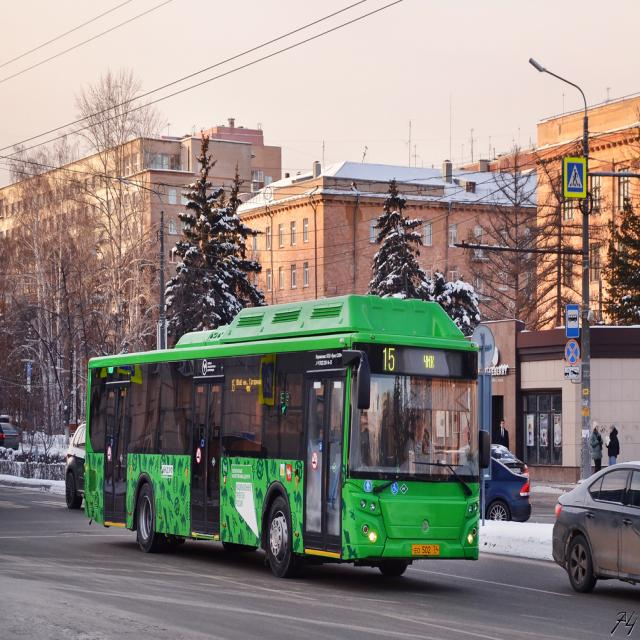number-of-bus: (384, 347, 397, 371)
